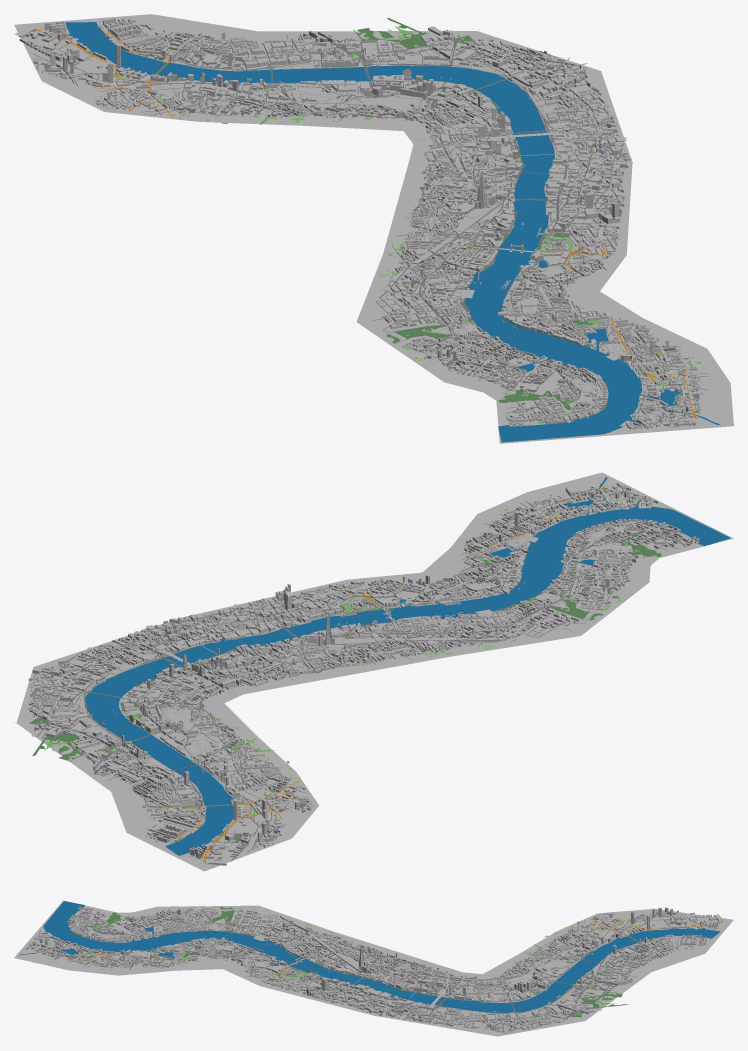
File: CityscapeCompressed.glb
3 renders of one model, top to bottom at view 1: azimuth 30°, elevation 25°; view 2: azimuth 150°, elevation 25°; view 3: azimuth 270°, elevation 25°, orthographic. The views are drawn at different scales.
Visible parts, largest first — view 1: City4; view 2: City4; view 3: City4.
Part boxes in pixels (bbox=[...]): City4: bbox=[14, 14, 733, 443]; City4: bbox=[14, 472, 733, 871]; City4: bbox=[14, 900, 733, 1036].
Size of the model in its own units: 29.36 by 2.4 by 65.64.
Materials: 1 (1 with a texture image).
